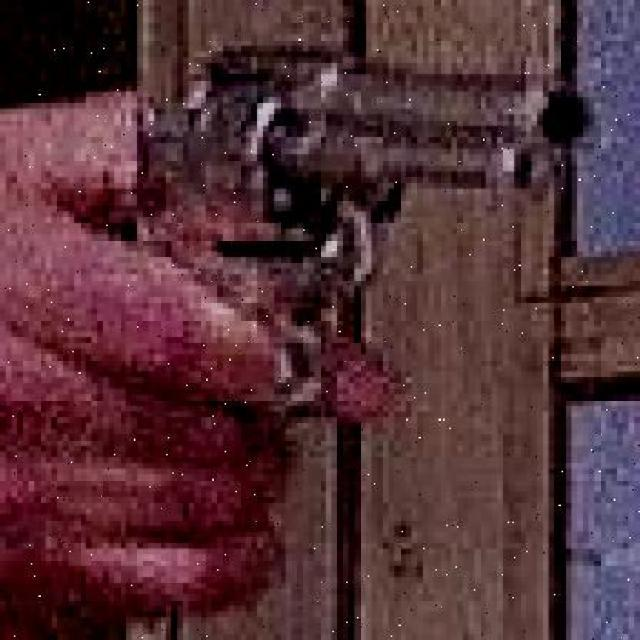rifle: (105, 15, 638, 358)
